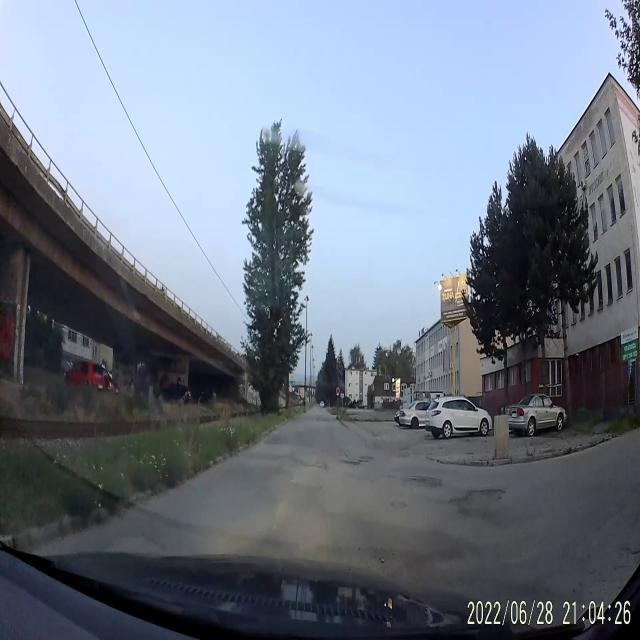Pothole: (458, 484, 502, 524), (402, 471, 444, 496)
